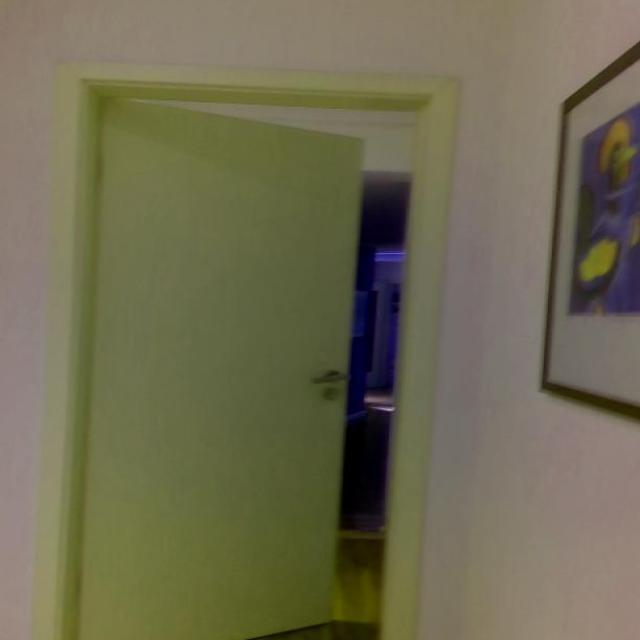door: (74, 94, 365, 639)
